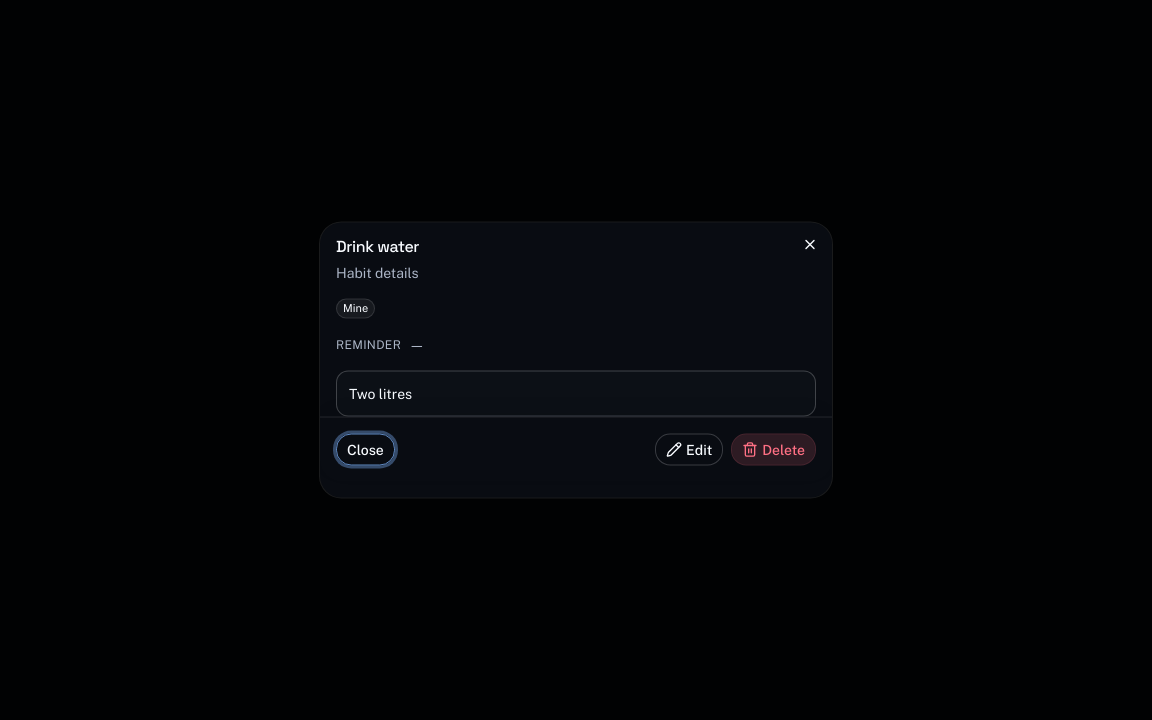
Test case: HabitTemplateDetailDialog — the save payload › seeds BOTH language fields from an English-only template
Click the button "Edit".
click(689, 450)  # box [655, 434, 723, 466]
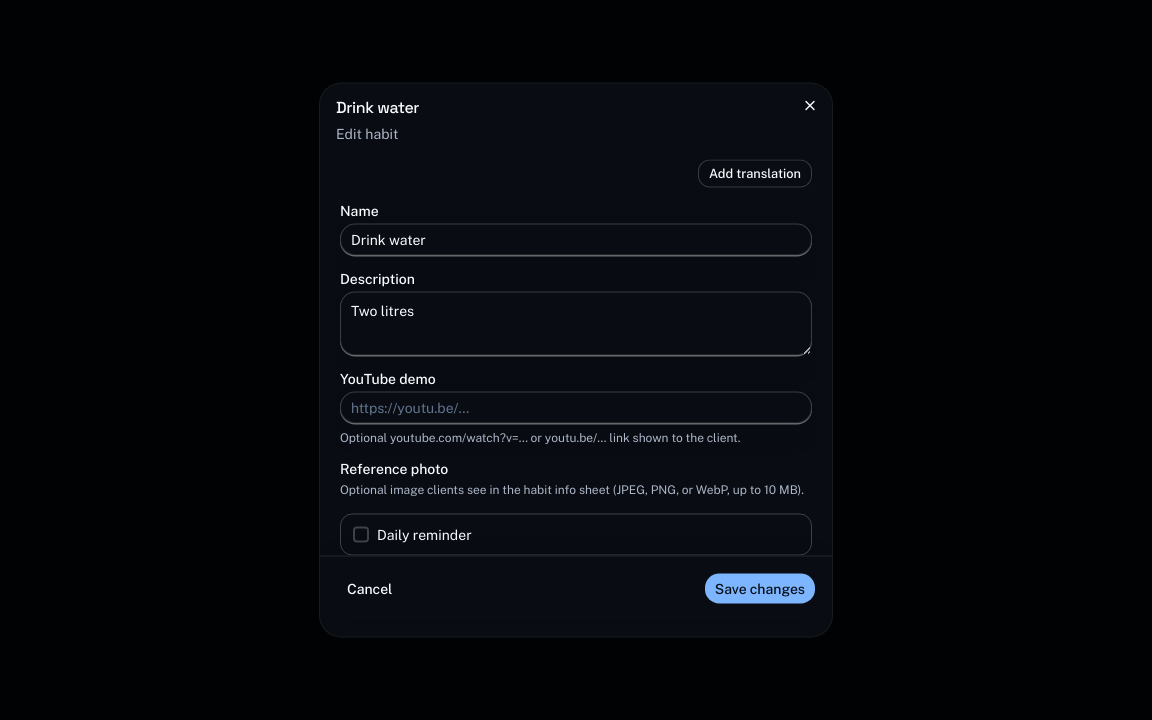
Click the button "Add translation".
click(755, 174)  # box [698, 160, 812, 188]
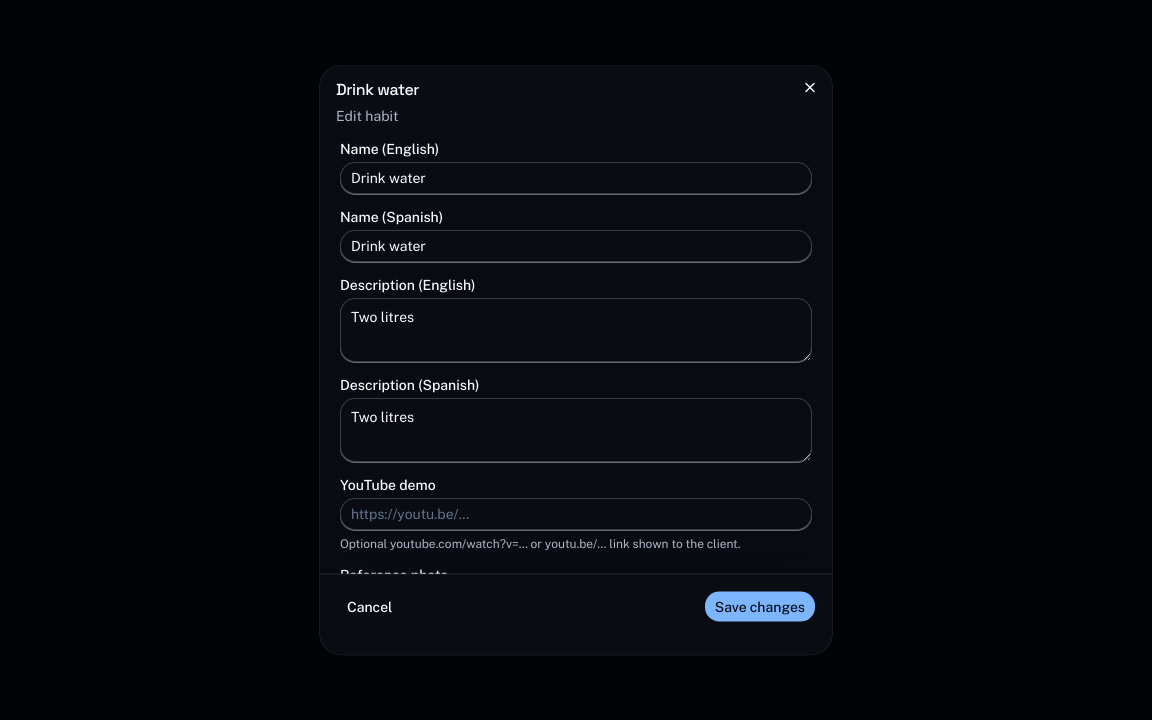
Result: the field labelled "Name (Spanish)" holds "Drink water" at [340, 230, 812, 262]
